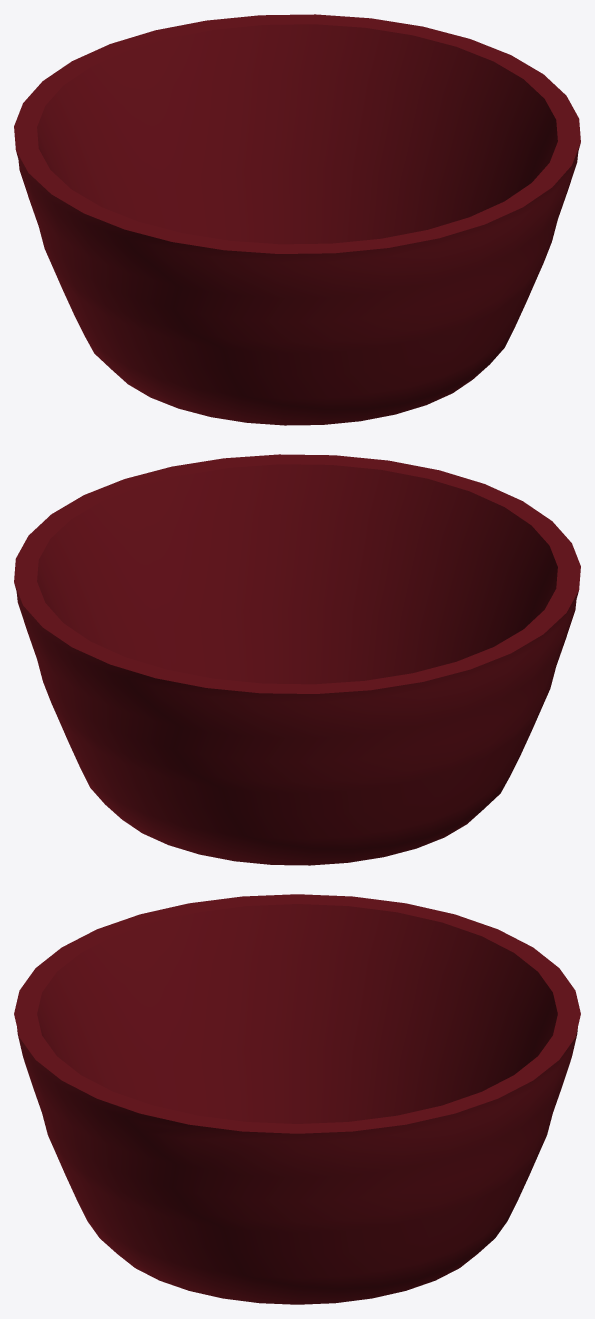
The model's file is bowl2.fbx.
3 views of the same model, one above another, from view 1: azimuth 30°, elevation 25°; view 2: azimuth 150°, elevation 25°; view 3: azimuth 270°, elevation 25° (orthographic).
Visible parts, largest first — view 1: Cylinder; view 2: Cylinder; view 3: Cylinder.
Boxes of the visible parts, left/top/right/bottom form: Cylinder: left=14, top=14, right=580, bottom=425; Cylinder: left=14, top=454, right=580, bottom=865; Cylinder: left=14, top=894, right=580, bottom=1304.
Size of the model in its own units: 265 by 107 by 265.
